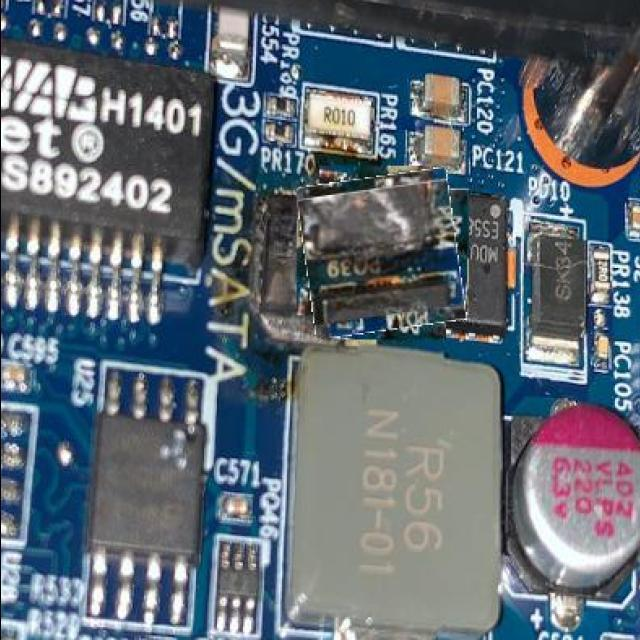Burn: (300, 172, 462, 334)
